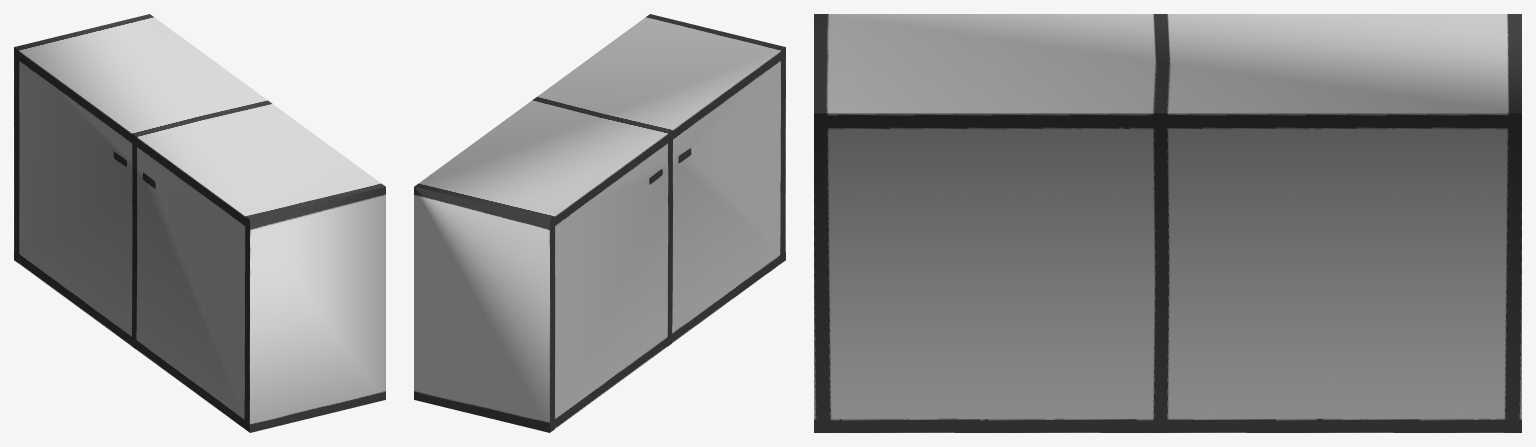
The model's file is Cabinet_02_snaps001.fbx.
3 renders of one model, left to right at view 1: azimuth 30°, elevation 25°; view 2: azimuth 150°, elevation 25°; view 3: azimuth 270°, elevation 25°, orthographic. The views are drawn at different scales.
Parts seen in each view (by area): view 1: Cabinet_02_snaps001; view 2: Cabinet_02_snaps001; view 3: Cabinet_02_snaps001.
Part boxes in pixels (box(x1,y1,x2,y2)): Cabinet_02_snaps001: box(14, 14, 385, 432); Cabinet_02_snaps001: box(414, 14, 785, 432); Cabinet_02_snaps001: box(814, 14, 1521, 432).
Bounding box in the file's own units: 0.5007 × 0.7511 × 1.51.
